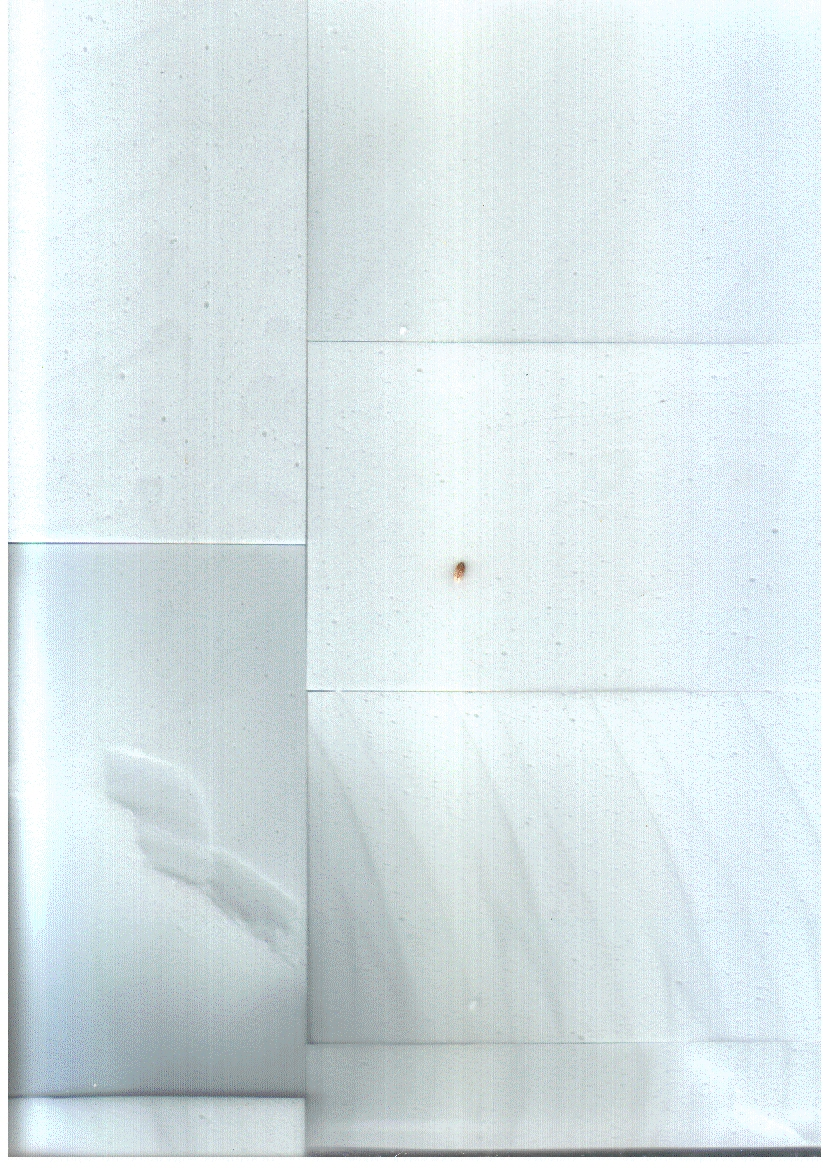grains: (438, 544, 481, 601)
